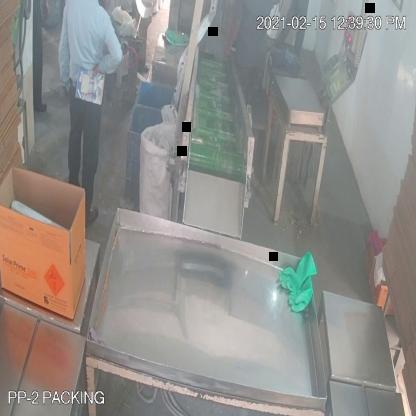glove: (276, 238, 324, 325)
no_glove: (87, 25, 125, 80), (224, 11, 244, 79)
